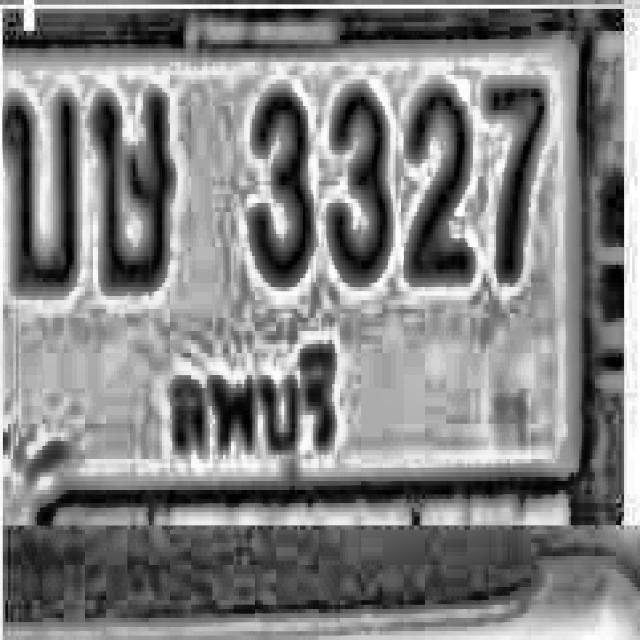license-plate: (4, 0, 603, 523)
